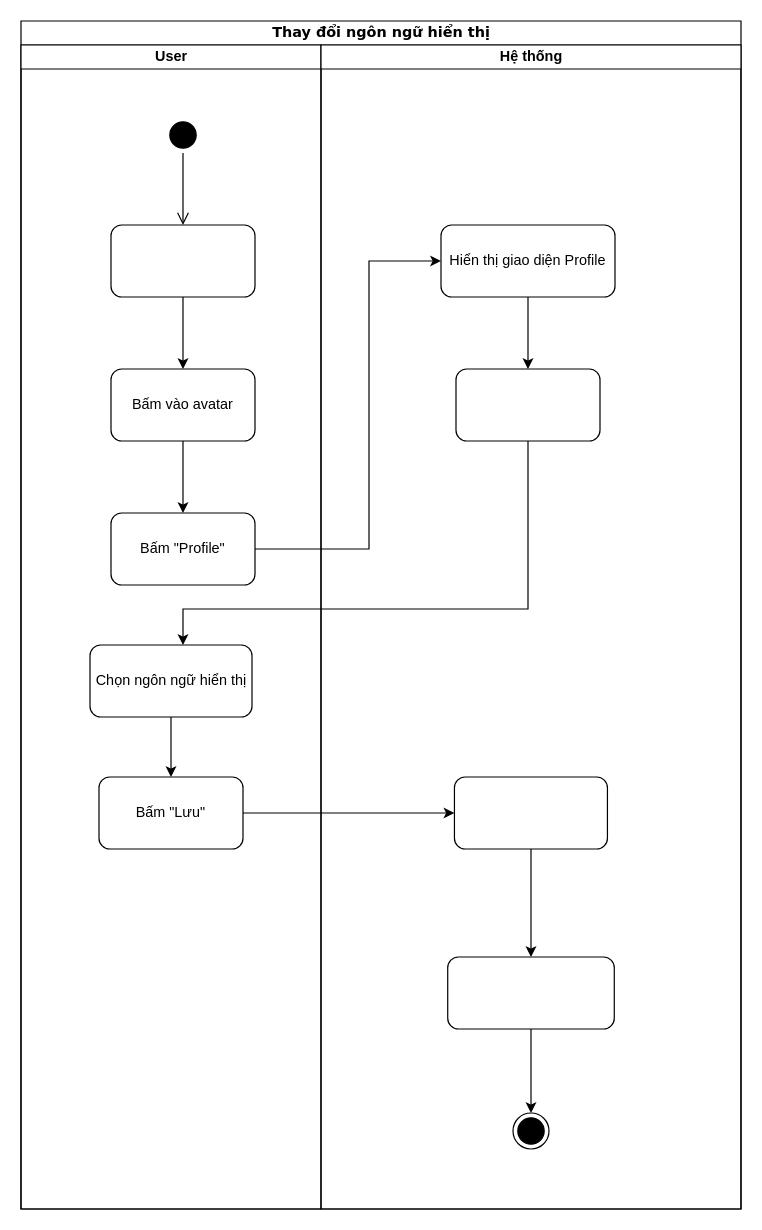
The diagram is 762 pixels wide and 1230 high, and some of its shapes have lost their labels. Here are the shapes that lost their labels. From the top down, the box of each, then its label:
(110, 224, 255, 297): Đăng nhập
(455, 368, 600, 441): Hiển thị mục ngôn ngữ hiển thị
(453, 776, 607, 849): Hệ thống lưu thông tin
(447, 956, 614, 1029): Hệ thống hiển thị giao diện với ngôn ngữ khác
